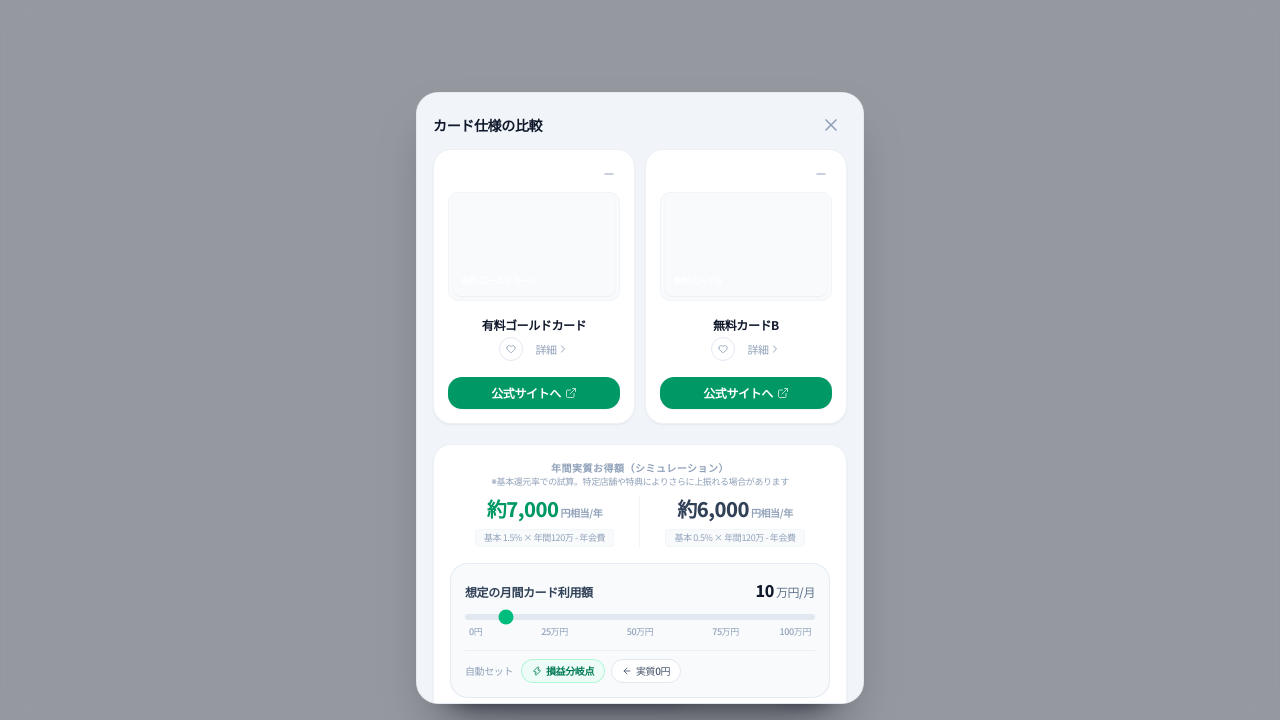
Test case: CompareBottomSheet - 損益分岐点・実質0円チップの動作テスト › ユーザーインタラクション › IT-01 / IT-03: 「損益分岐点」チップタップ時に利用額がセットされスタイルがハイライトされること
This screenshot has width=1280, height=720.
Check: the text "10" is shown, box [756,578,774,602]
#  チップをタップ
Click the button "損益分岐点": (563, 671) [521,659,605,683]
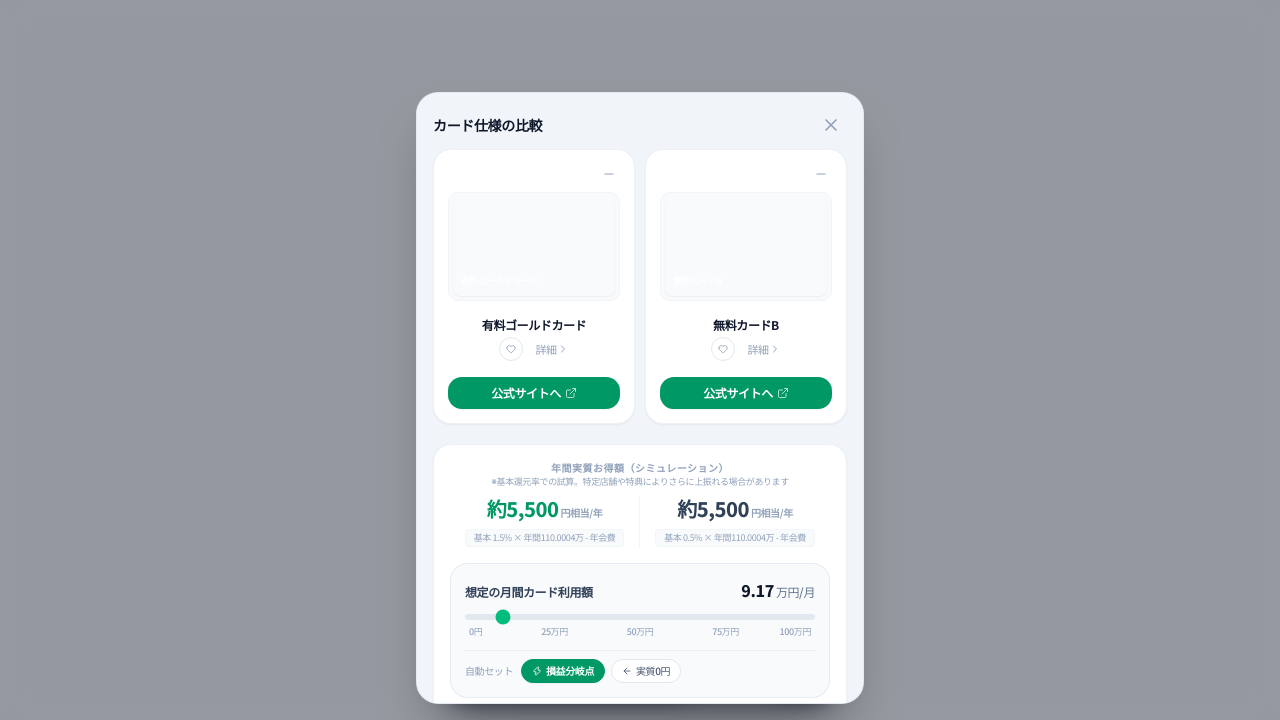
Check: the text "9.17" is shown, box [741,578,774,602]
